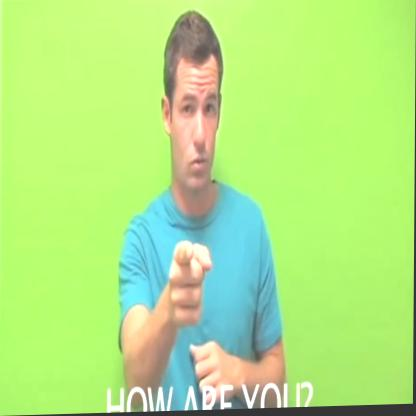HowAreYou: (160, 233, 247, 408)
